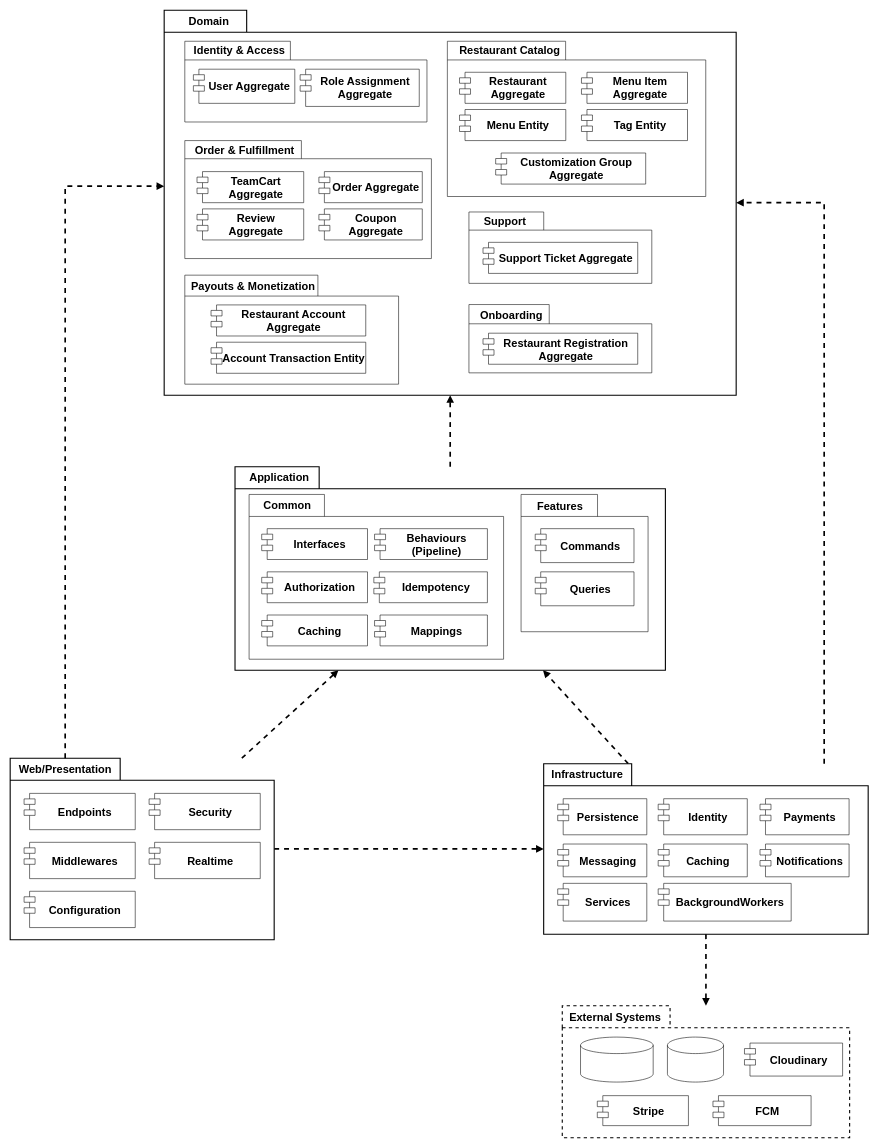
Image size: 878x1147. Some labels were removed from this diagram. Here are the shapes that lost their labels. From the top down, the centre of each, then its label:
point 616,1059: PostgreSQL
point 695,1059: Redis
